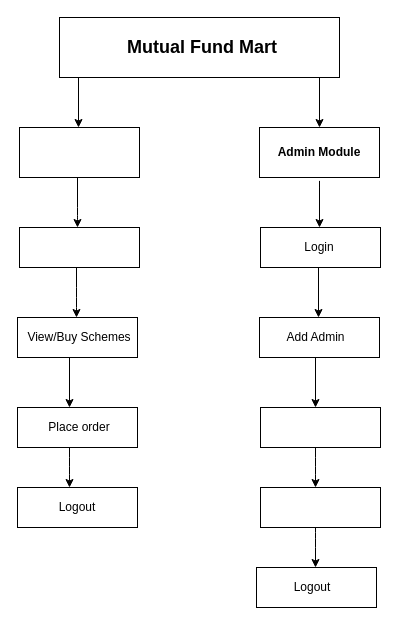
This 398x625 diagram has some shape labels left out. Here are the shapes that lost their labels. From the top down, the centre of each, then its label:
point (79, 152): User Module
point (79, 247): Login/Sign up
point (320, 427): View Users
point (320, 507): Add Category/Schemes
